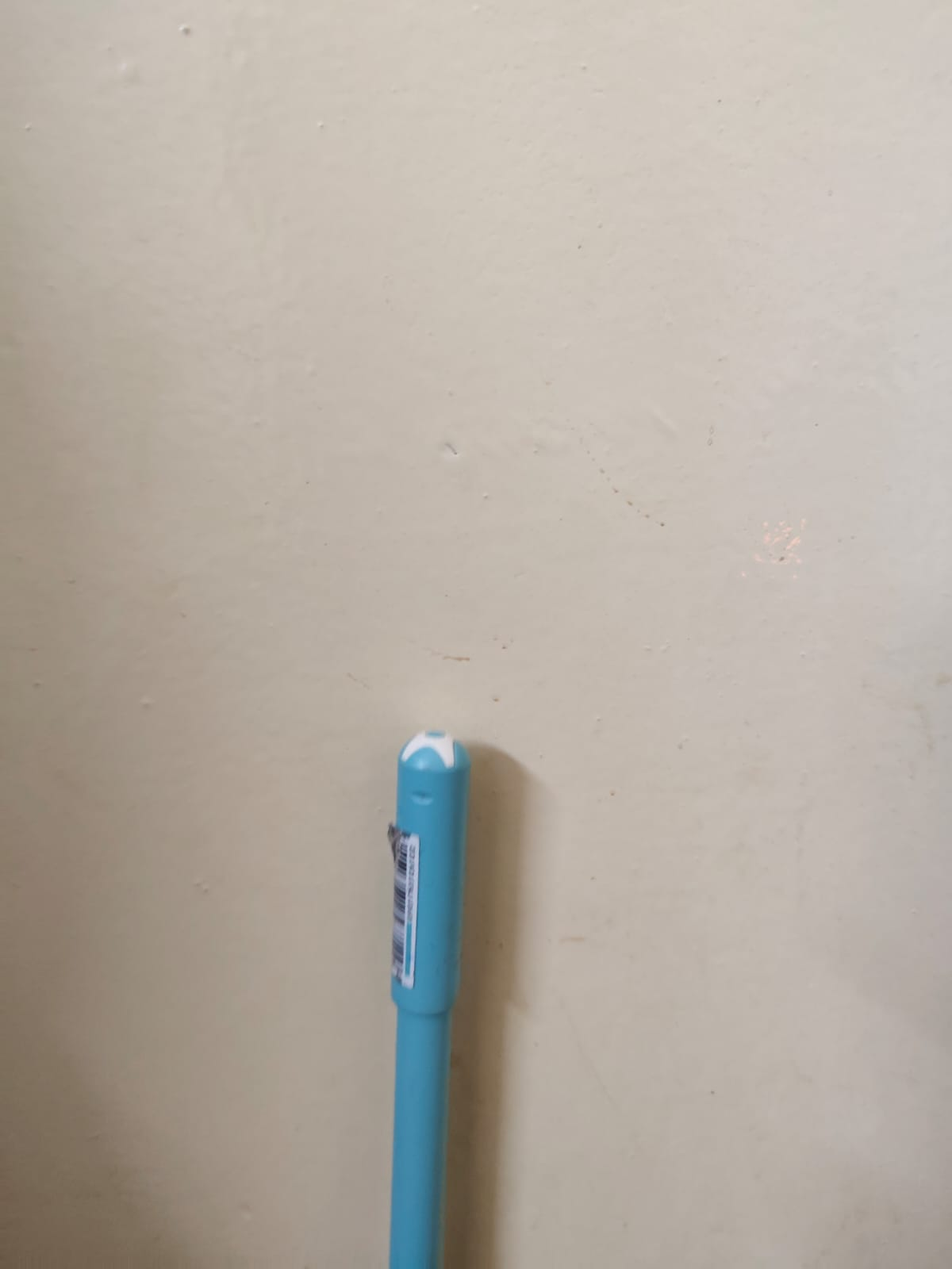pen: (353, 711, 543, 1246)
